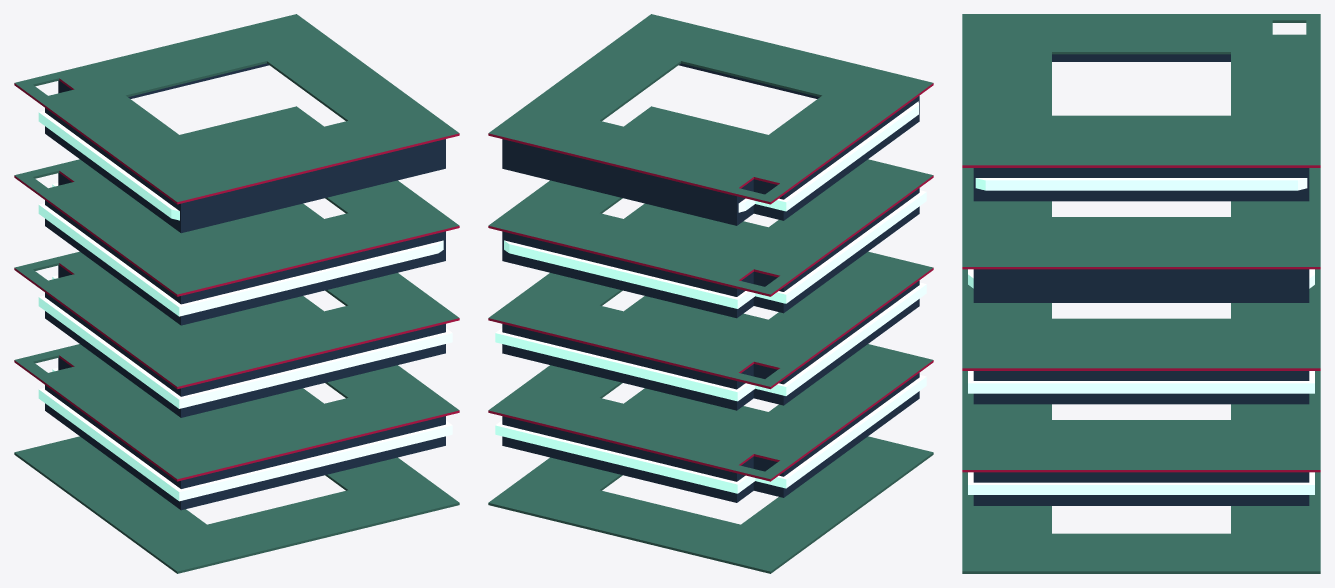
File: NewColoredBuildingArtcade_3.gltf
The picture shows the model from 3 angles, left to right: view 1: azimuth 30°, elevation 25°; view 2: azimuth 150°, elevation 25°; view 3: azimuth 270°, elevation 25°; orthographic projection. The views are drawn at different scales.
Visible parts, largest first — view 1: Ground Floor.005; view 2: Ground Floor.005; view 3: Ground Floor.005.
Part boxes in pixels (x1,y1,x2,y2): Ground Floor.005: [14, 14, 459, 573]; Ground Floor.005: [488, 14, 933, 573]; Ground Floor.005: [962, 14, 1320, 573].
Size of what is drawn, in the model's own units: 32 by 40.25 by 32.
3 materials, 1 textured.
